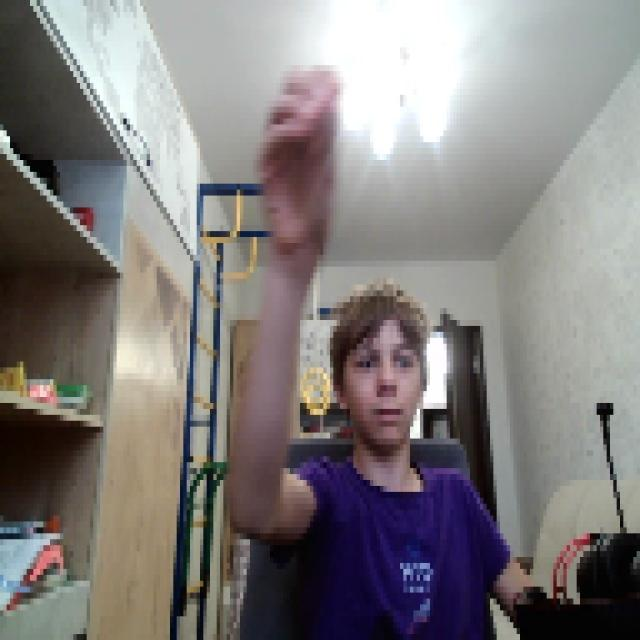left_click: (253, 53, 337, 243)
